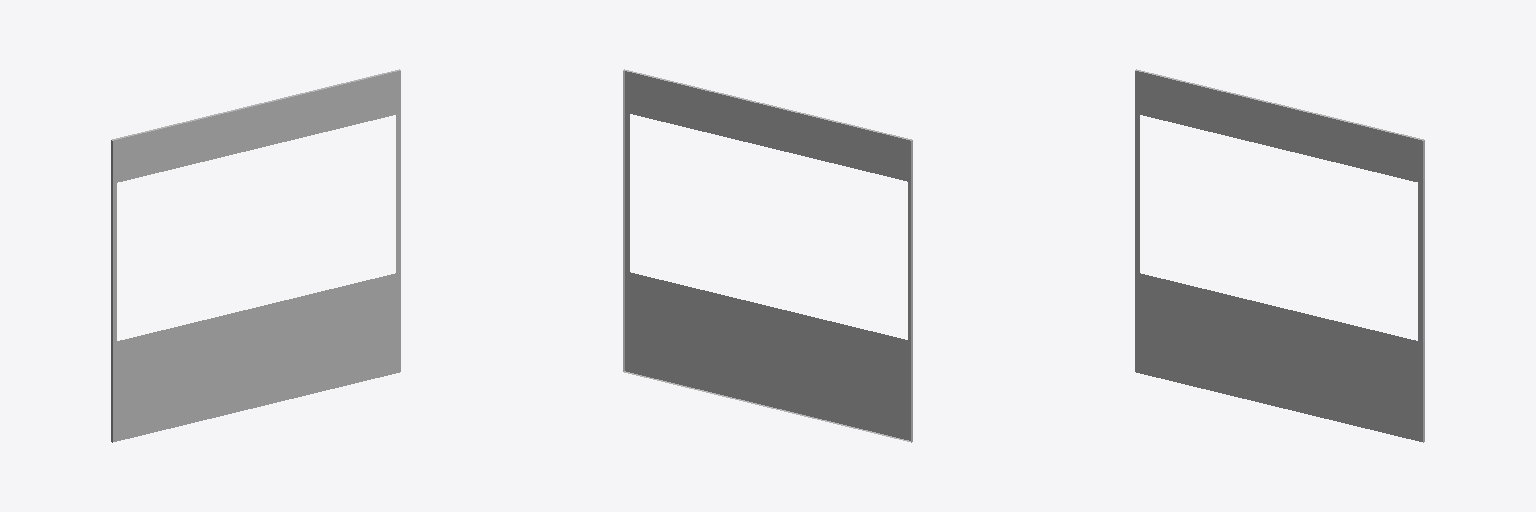
Rendered from wall_front_hole.obj.
The picture shows the model from 3 angles: view 1: azimuth 30°, elevation 25°; view 2: azimuth 150°, elevation 25°; view 3: azimuth 330°, elevation 25°; orthographic projection.
Visible parts, largest first — view 1: back2223; view 2: back2223; view 3: back2223.
Boxes of the visible parts, box(x1,y1,x2,y2) form: back2223: box(111, 69, 400, 442); back2223: box(623, 69, 912, 442); back2223: box(1135, 69, 1424, 442).
Size of the model in its own units: 560 by 560 by 5.